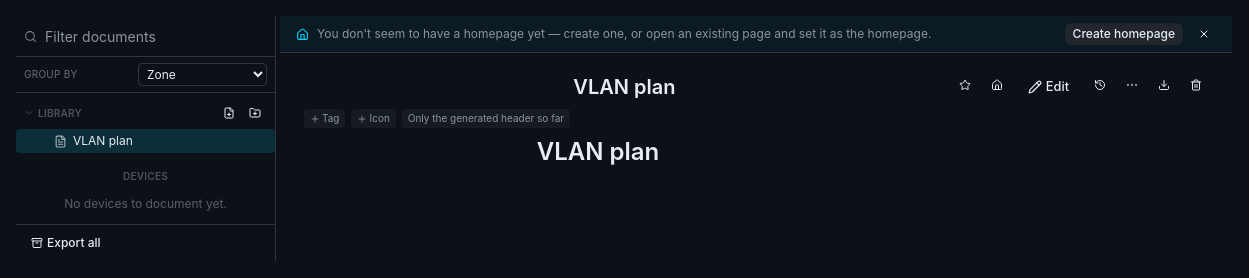
DocumentationView — homepage › sets the first homepage without asking
Step 1. Click the button named "Set as homepage" → (997,85), box [985,73,1009,97]
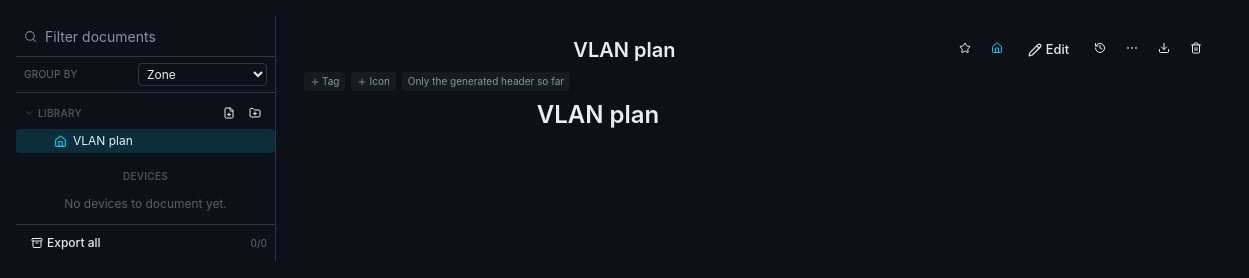
Result: the text "don.t seem to have a homepage yet" is gone
